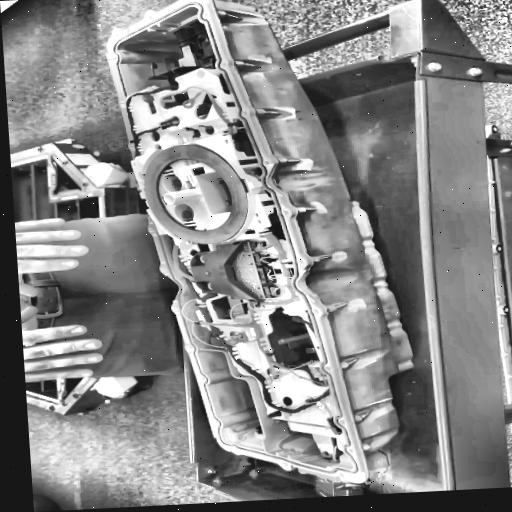bms_unit: (91, 0, 423, 493)
